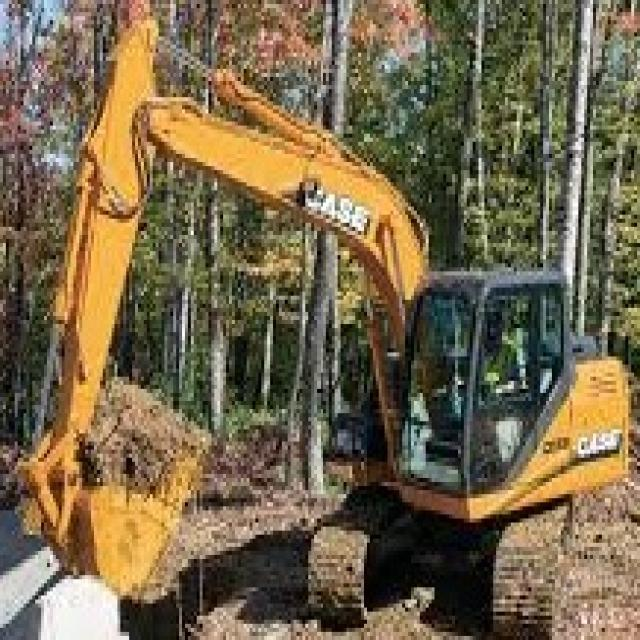excavator: (284, 250, 634, 638)
